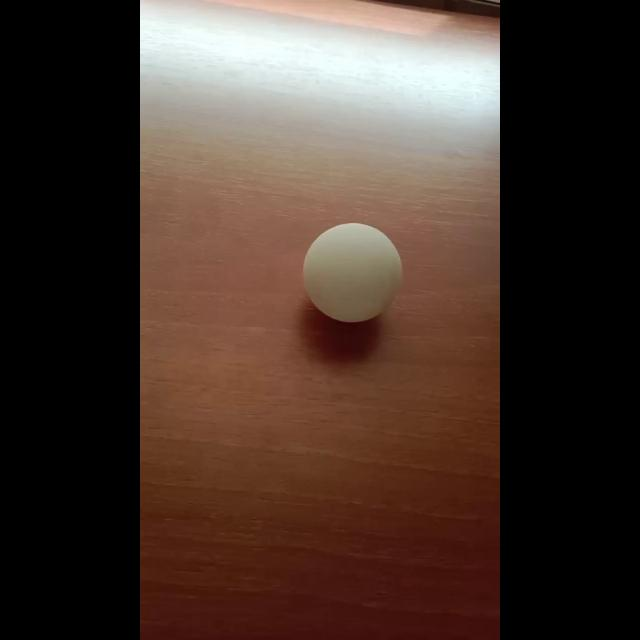white ball: (302, 221, 402, 323)
